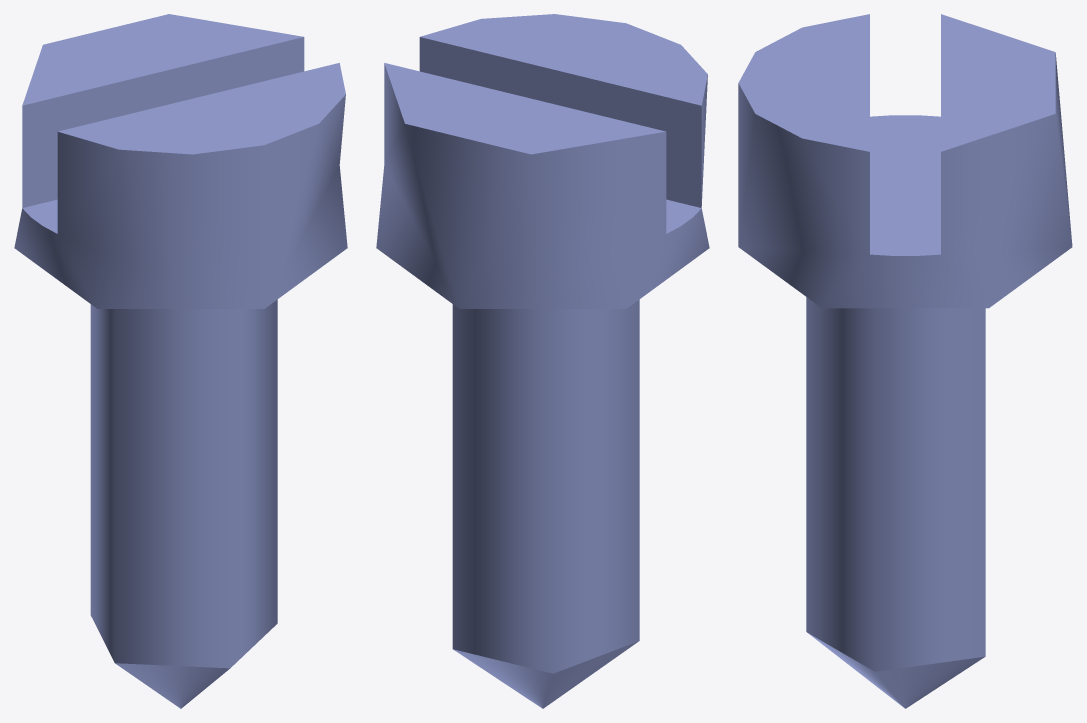
The model's file is Copie de Vis porte suspension^Horloge Comtoise Verge - Sonnerie_instance_1.obj.
3 views of the same model, side by side, from view 1: azimuth 30°, elevation 25°; view 2: azimuth 150°, elevation 25°; view 3: azimuth 270°, elevation 25° (orthographic).
Visible parts, largest first — view 1: Face_1, Face_4, Face_8, Face_5, Face_6, Face_2, Face_9; view 2: Face_1, Face_4, Face_8, Face_7, Face_6, Face_2, Face_9; view 3: Face_1, Face_4, Face_8, Face_6, Face_9, Face_2.
Boxes of the visible parts, x1,y1,x2,y2 form: Face_1: (90, 299, 277, 668); Face_4: (14, 94, 347, 308); Face_8: (58, 63, 345, 154); Face_5: (22, 37, 304, 207); Face_6: (22, 14, 303, 105); Face_2: (115, 663, 229, 708); Face_9: (22, 199, 57, 233); Face_1: (452, 299, 639, 673); Face_4: (376, 63, 709, 308); Face_8: (420, 14, 707, 105); Face_7: (419, 37, 701, 207); Face_6: (384, 63, 665, 154); Face_2: (453, 641, 638, 708); Face_9: (666, 199, 701, 233); Face_1: (806, 297, 985, 671); Face_4: (738, 53, 1072, 308); Face_8: (738, 14, 869, 151); Face_6: (941, 14, 1055, 151); Face_9: (870, 115, 940, 255); Face_2: (807, 632, 984, 708).
Size of the model in its own units: 0.00589 by 0.0122 by 0.0059.
